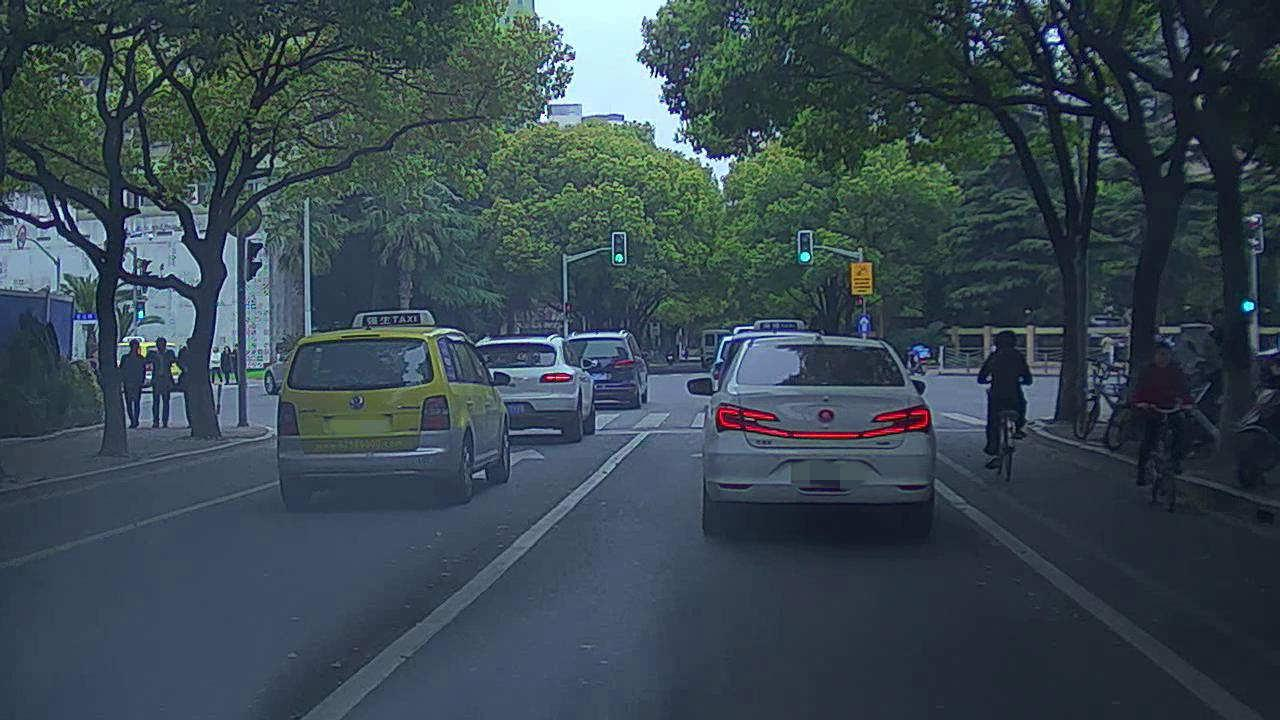traffic_light: (796, 229, 815, 263), (612, 229, 627, 264)
